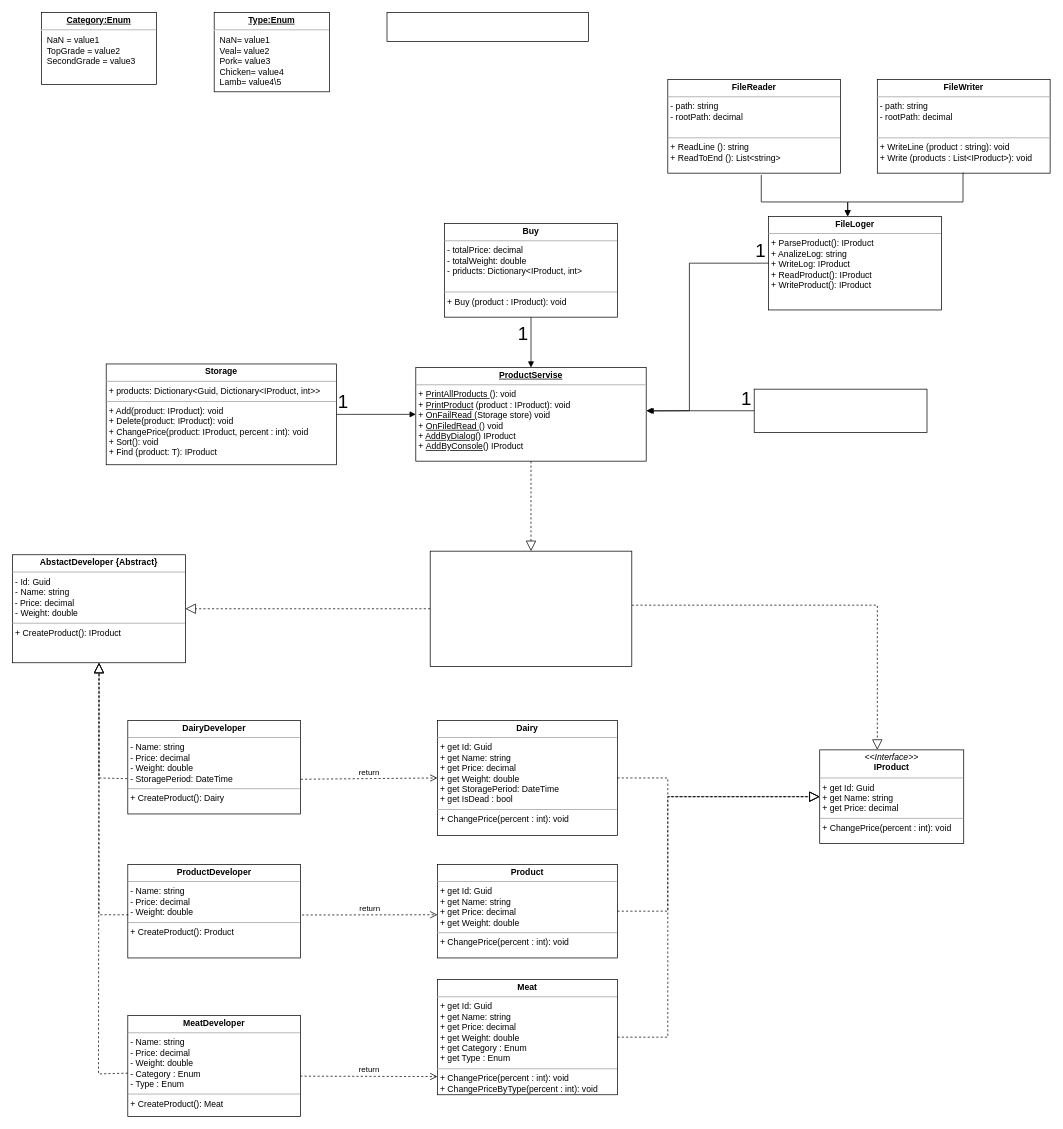
The diagram is 1063 pixels wide and 1129 high, and some of its shapes have lost their labels. The centre of each missing label's shape, as x and y in pixels:
"Check + DisplayCheck(): void" goes at (840,410).
"Client code" goes at (530,608).
"StorageTermHandler:delegate" goes at (487,26).
